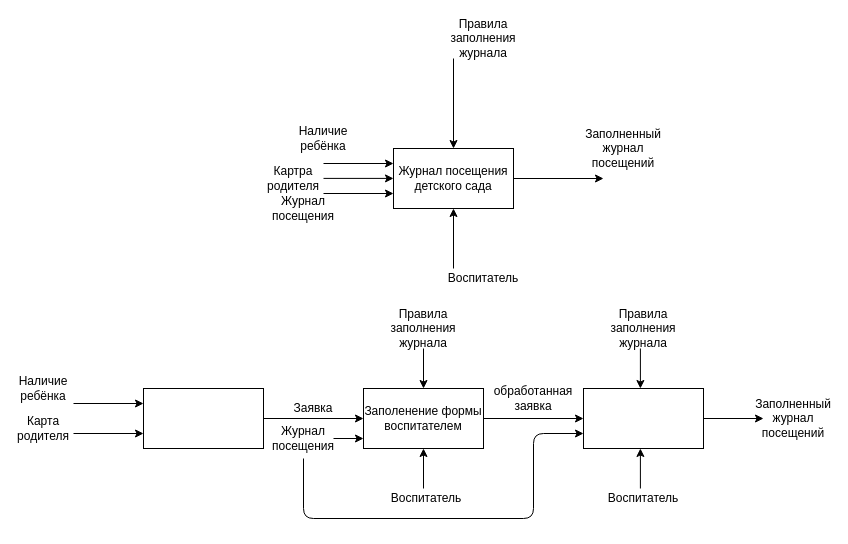
Some shapes in this 848 by 544 pixel diagram are drawn without their labels. The box of each missing label's shape, as (x1, y1, x2, y2) in pixels:
Прикладывание карты родителем: (142, 388, 264, 448)
Сравнение идентичности заполненных форм: (582, 388, 704, 448)
